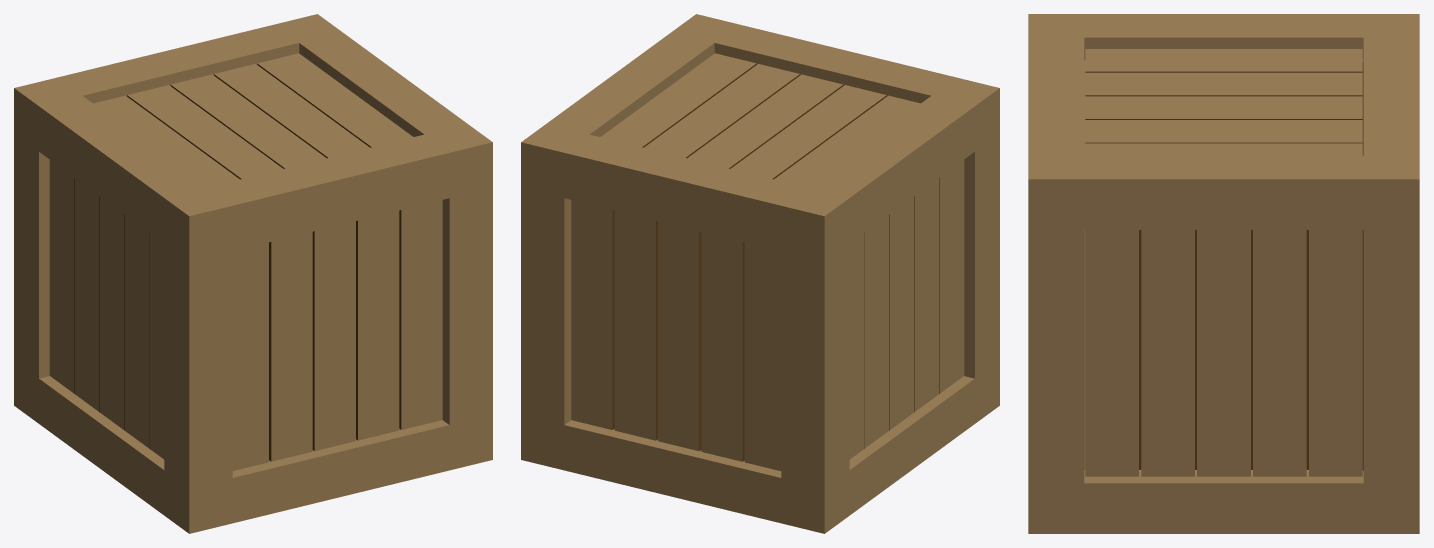
3 views of the same model, side by side, from view 1: azimuth 30°, elevation 25°; view 2: azimuth 150°, elevation 25°; view 3: azimuth 270°, elevation 25° (orthographic). The views are drawn at different scales.
Visible parts, largest first — view 1: Cube.001; view 2: Cube.001; view 3: Cube.001.
Boxes of the visible parts, x1=… form: Cube.001: x1=14, y1=14, x2=492, y2=533; Cube.001: x1=521, y1=14, x2=999, y2=533; Cube.001: x1=1028, y1=14, x2=1419, y2=533.
Bounding box in the file's own units: 0.8 × 0.8 × 0.8.
